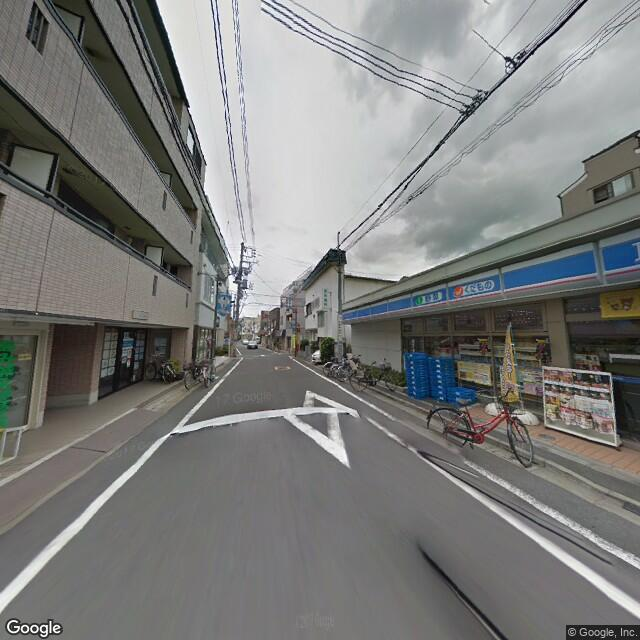lawson: (344, 221, 640, 331)
